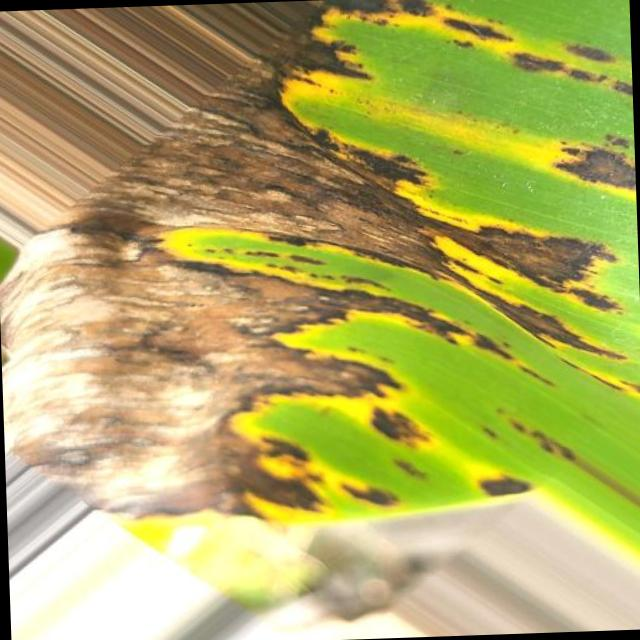Banana_Black_Sigatoka: (0, 177, 422, 550), (204, 0, 638, 304)
